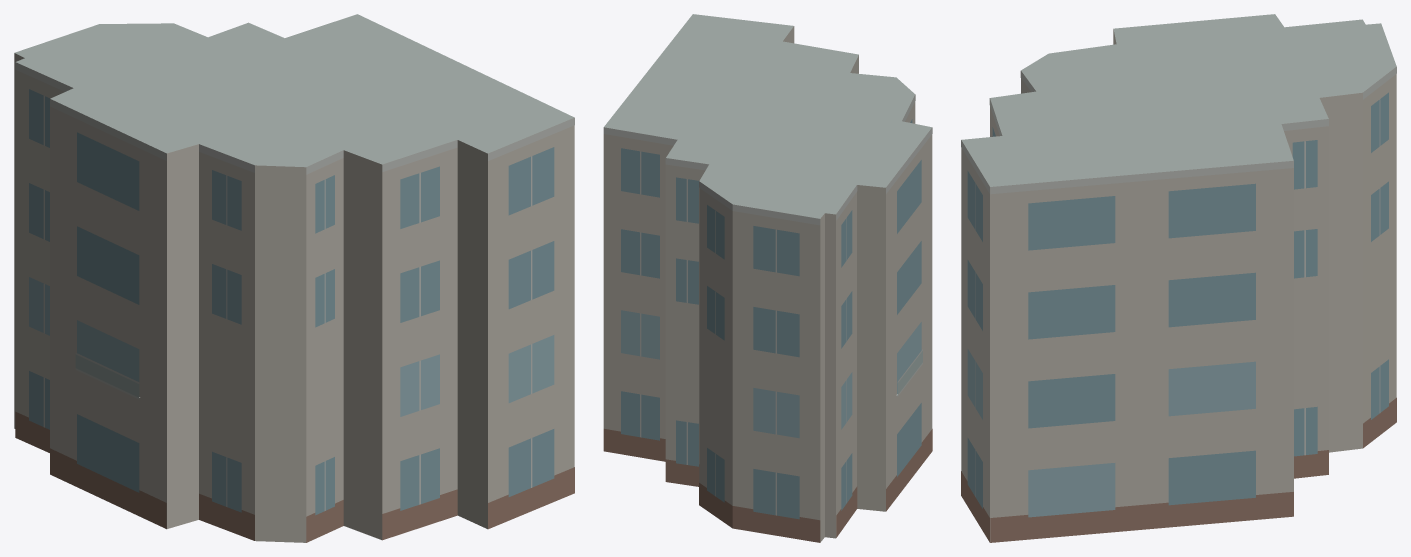
Rendered from survey-upis-32676820.glb.
3 views of the same model, side by side, from view 1: azimuth 30°, elevation 25°; view 2: azimuth 150°, elevation 25°; view 3: azimuth 270°, elevation 25° (orthographic). The views are drawn at different scales.
Visible parts, largest first — view 1: survey-upis-32676820.tmp; view 2: survey-upis-32676820.tmp; view 3: survey-upis-32676820.tmp.
Boxes of the visible parts, left/top/right/bottom form: survey-upis-32676820.tmp: left=14, top=14, right=574, bottom=542; survey-upis-32676820.tmp: left=603, top=14, right=932, bottom=542; survey-upis-32676820.tmp: left=961, top=14, right=1396, bottom=542.
Size of the model in its own units: 12.47 by 11.95 by 13.27.
